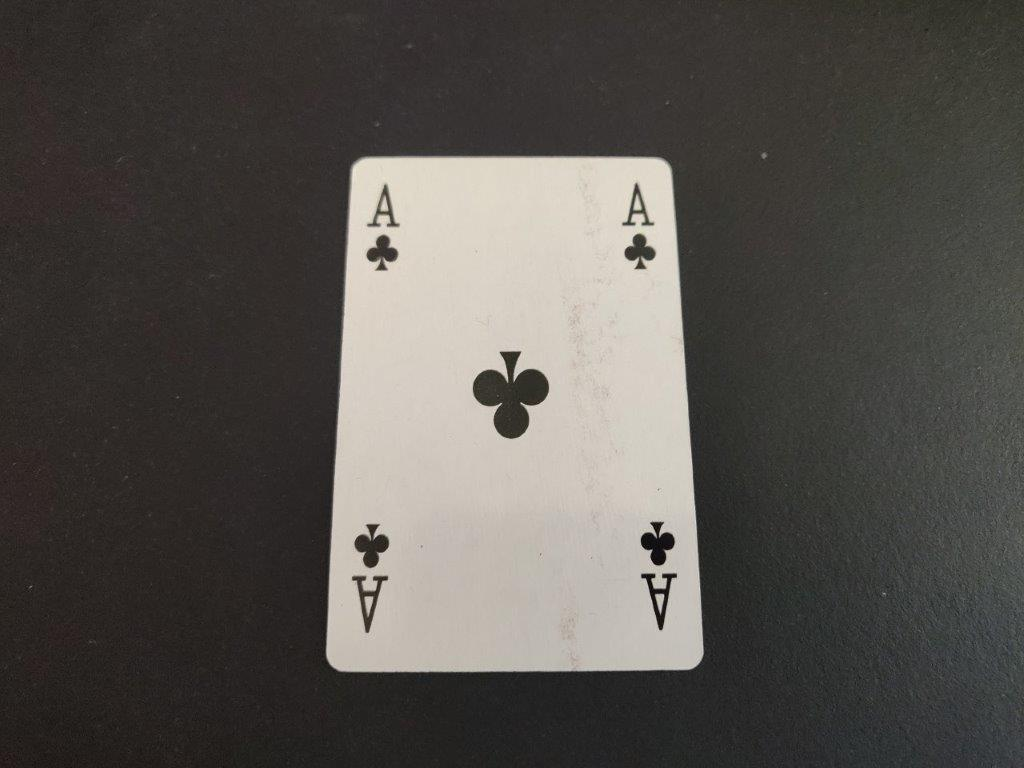AC: (617, 176, 662, 276), (365, 174, 406, 281)
